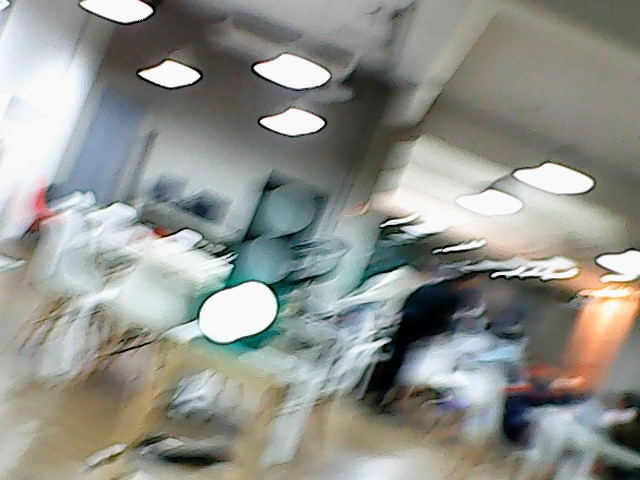verde: (188, 166, 335, 355)
